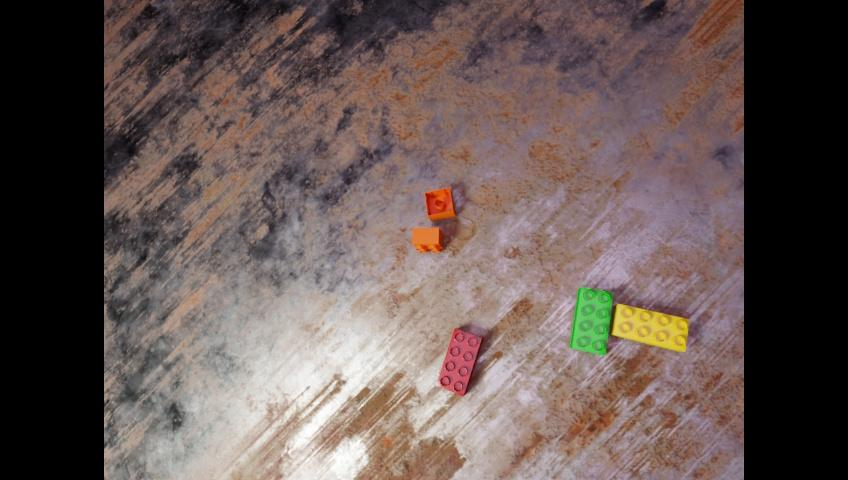2x2_orange: (424, 186, 454, 220), (412, 227, 443, 252)
4x2_green: (569, 286, 612, 355)
4x2_red: (436, 327, 482, 396)
4x2_yellow: (609, 303, 688, 351)
